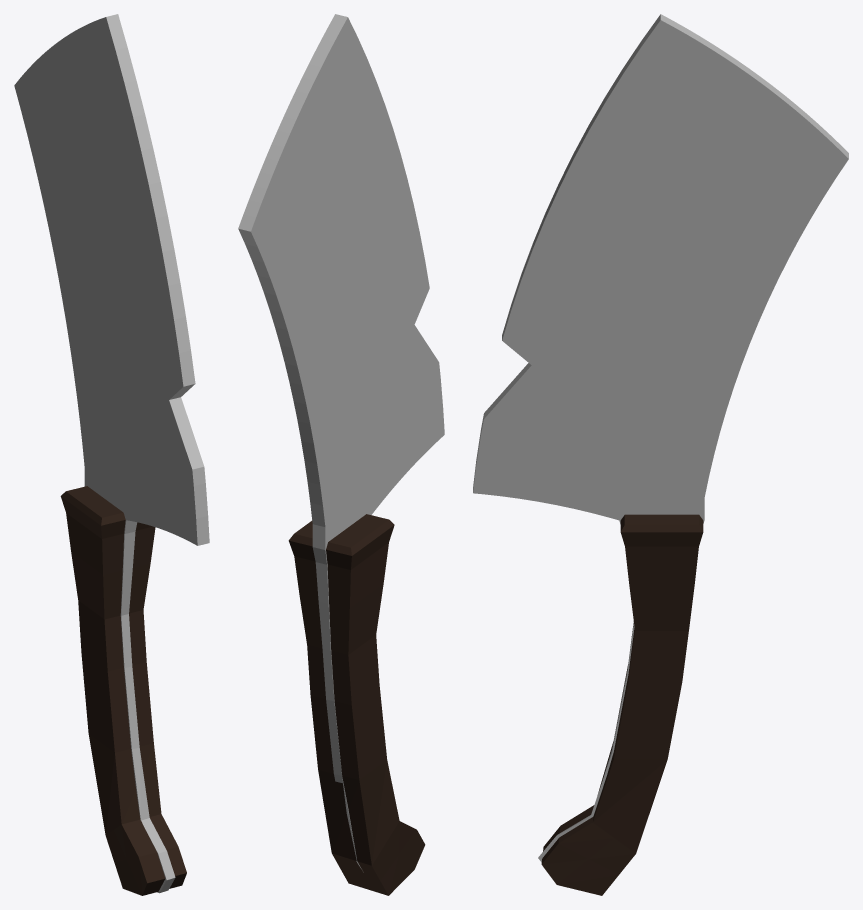
Rendered from o2_Weapons_Melee_Hatchet.fbx.
3 renders of one model, left to right at view 1: azimuth 30°, elevation 25°; view 2: azimuth 150°, elevation 25°; view 3: azimuth 270°, elevation 25°, orthographic. The views are drawn at different scales.
Parts seen in each view (by area): view 1: o2_Weapons_Melee_Hatchet; view 2: o2_Weapons_Melee_Hatchet; view 3: o2_Weapons_Melee_Hatchet.
Part boxes in pixels (bbox=[...]): o2_Weapons_Melee_Hatchet: bbox=[14, 14, 209, 895]; o2_Weapons_Melee_Hatchet: bbox=[238, 14, 444, 895]; o2_Weapons_Melee_Hatchet: bbox=[473, 14, 848, 895].
Size of the model in its own units: 2.77 by 37.54 by 14.7.
